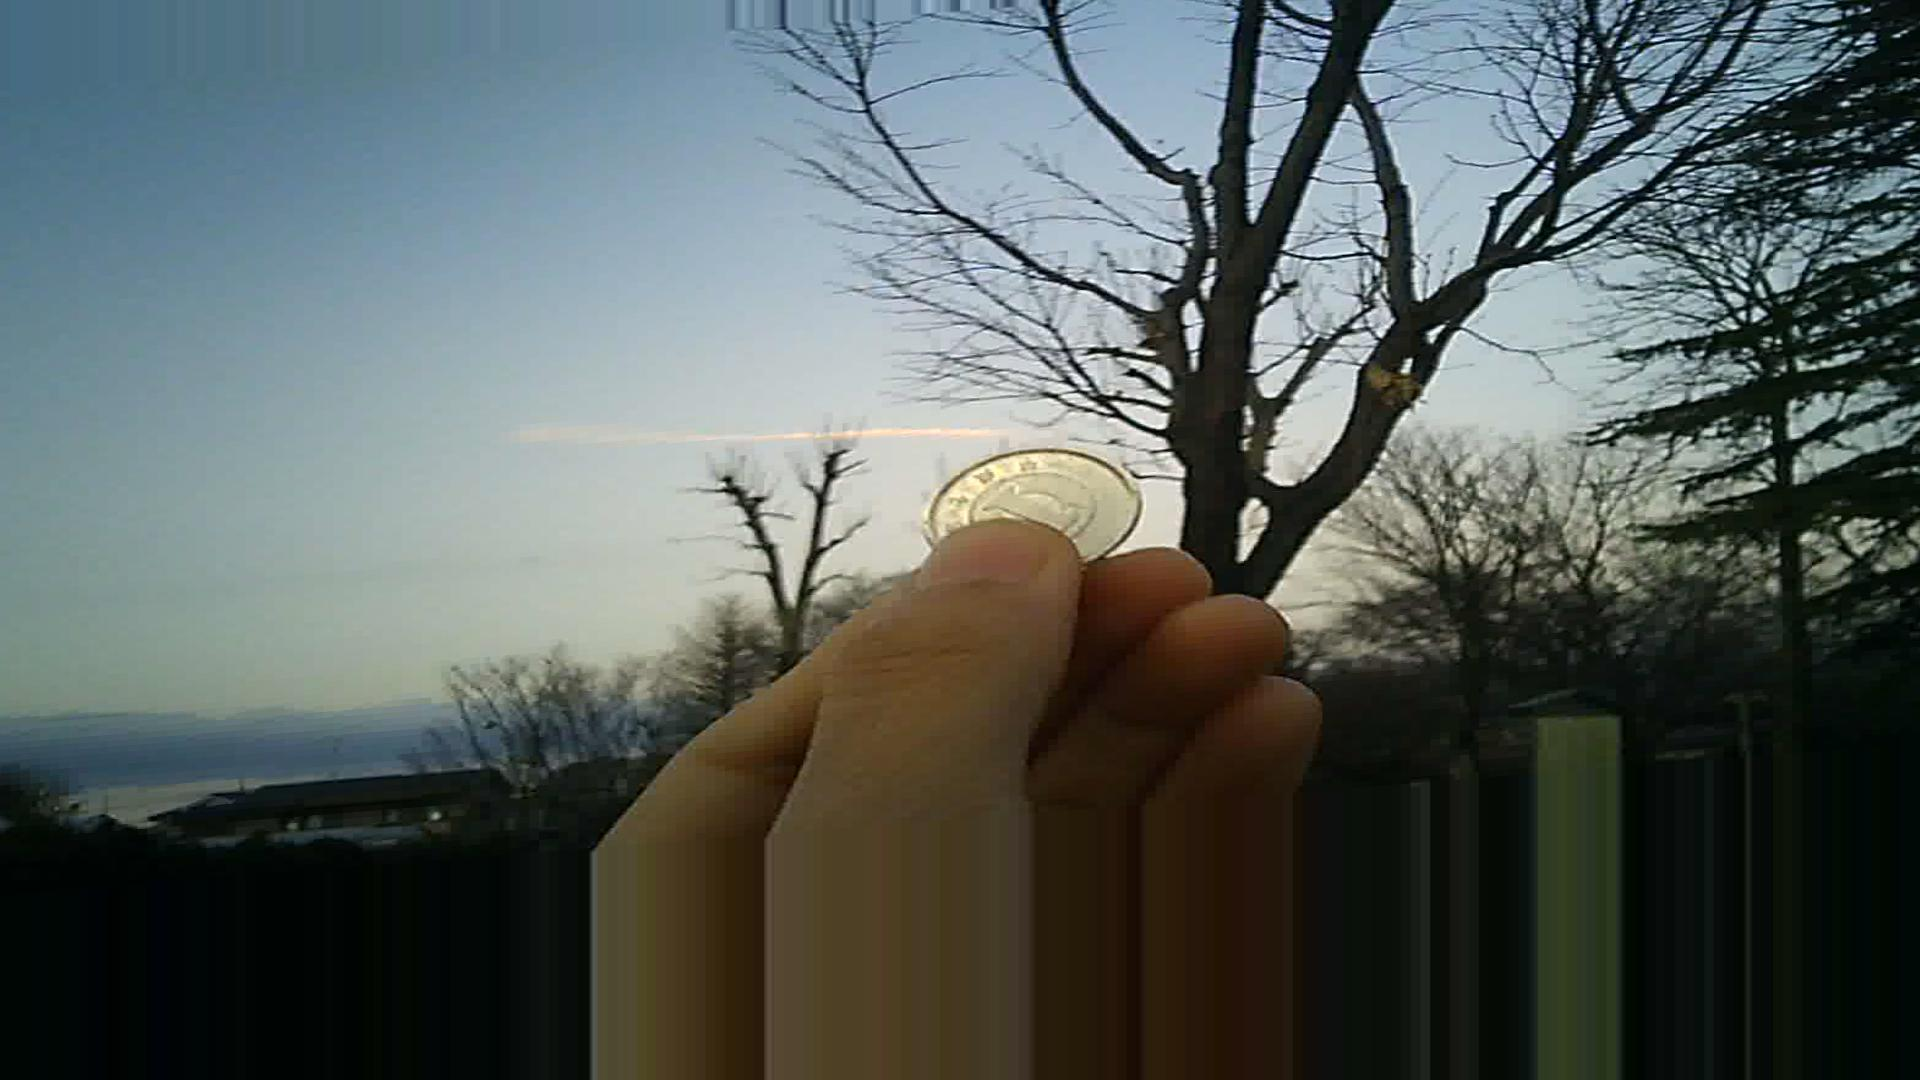1 Yen: (924, 451, 1158, 583)
